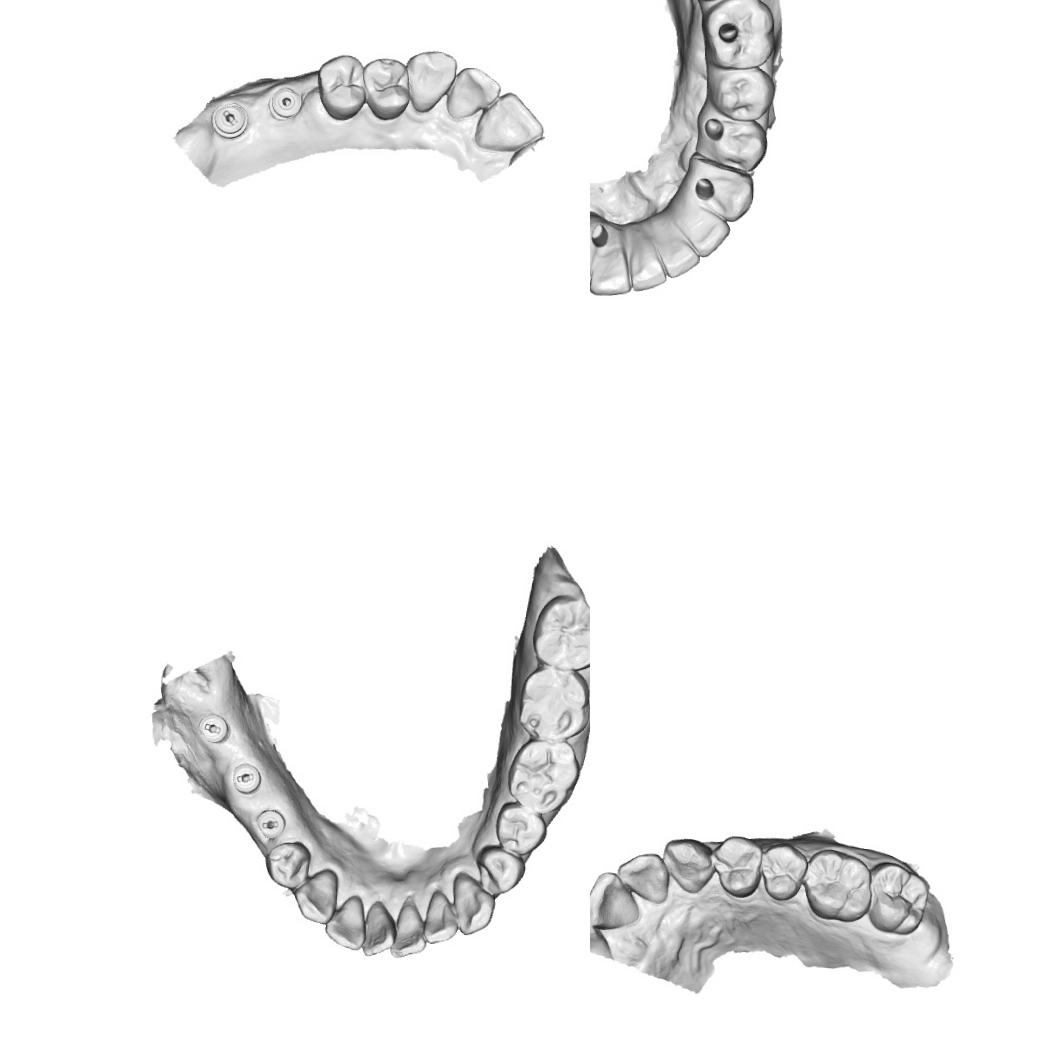canine: (678, 152, 756, 224), (404, 48, 458, 115), (660, 836, 714, 897), (449, 870, 498, 937), (292, 866, 340, 926)
implant: (266, 84, 306, 123), (194, 709, 233, 745)
implant_minus: (210, 101, 250, 140), (252, 806, 288, 841), (230, 761, 264, 796)
incisor: (472, 89, 545, 154), (622, 214, 668, 292), (445, 65, 502, 124), (590, 222, 632, 300), (676, 202, 732, 260), (614, 850, 672, 905), (654, 212, 700, 280), (590, 868, 642, 928), (322, 892, 365, 952), (388, 900, 428, 960), (420, 887, 460, 946), (362, 898, 398, 959), (590, 920, 618, 958)
molar: (504, 738, 582, 815), (697, 0, 780, 72), (515, 665, 590, 743), (800, 846, 873, 924), (866, 859, 931, 937), (529, 592, 590, 672)
premolar: (696, 109, 776, 173), (706, 64, 778, 124), (314, 52, 368, 123), (709, 833, 764, 900), (361, 56, 412, 121), (758, 839, 808, 903), (493, 801, 549, 858), (475, 844, 526, 898), (263, 840, 312, 892)
